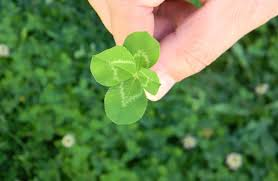4-clover: (91, 31, 166, 126)
